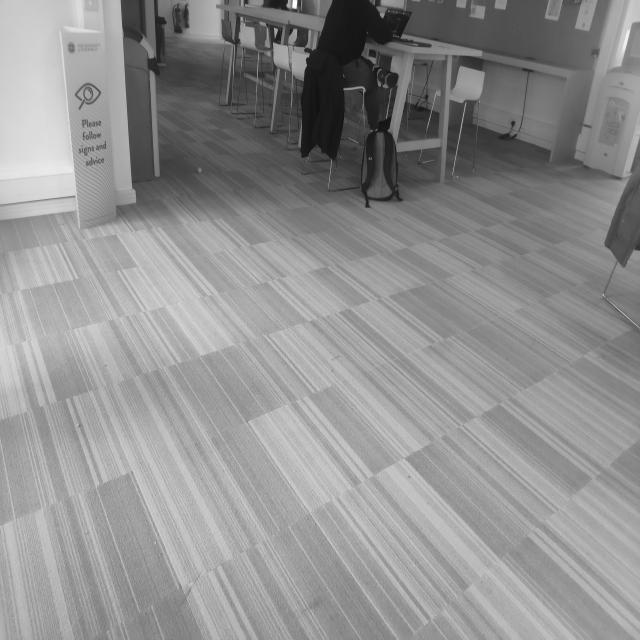ping-pong-ball: (196, 167, 202, 175)
